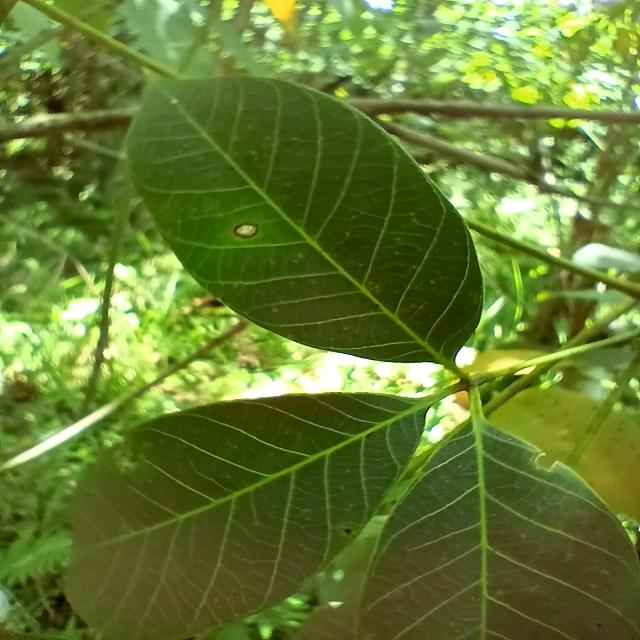Colletotrichum: (234, 223, 259, 238)
